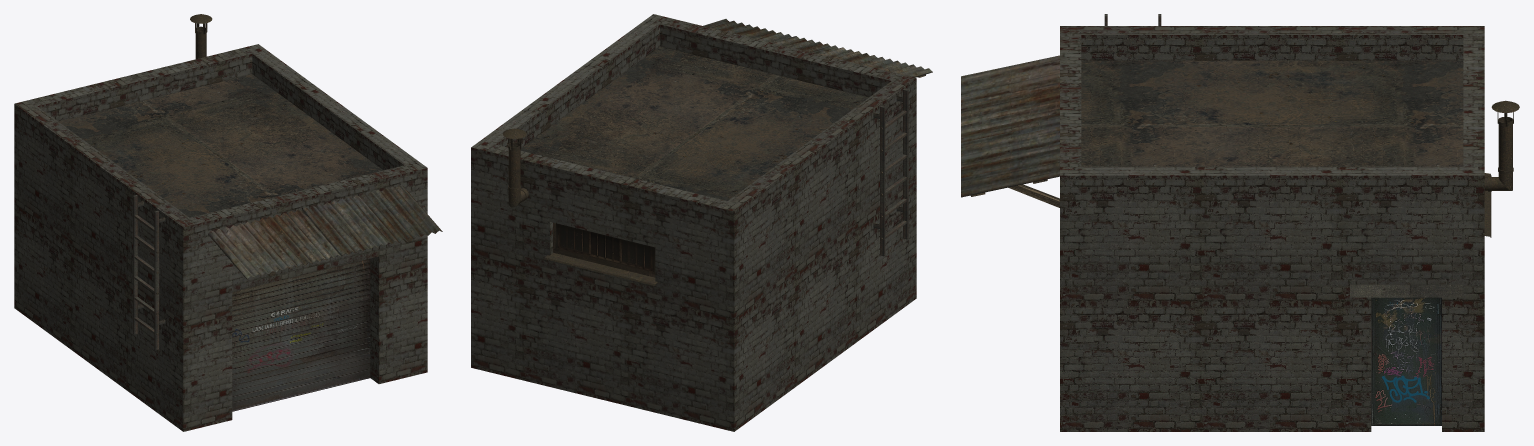
File: garage_hl_2.dae
3 views of the same model, side by side, from view 1: azimuth 30°, elevation 25°; view 2: azimuth 150°, elevation 25°; view 3: azimuth 270°, elevation 25° (orthographic). The views are drawn at different scales.
Visible parts, largest first — view 1: garage_hl_2; view 2: garage_hl_2; view 3: garage_hl_2.
Part boxes in pixels (box(x1,y1,x2,y2)): garage_hl_2: box(14, 14, 442, 431); garage_hl_2: box(471, 14, 932, 431); garage_hl_2: box(961, 14, 1519, 431).
Size of the model in its own units: 5.22 by 7.9 by 4.7.
Materials: 10 (10 with a texture image).
